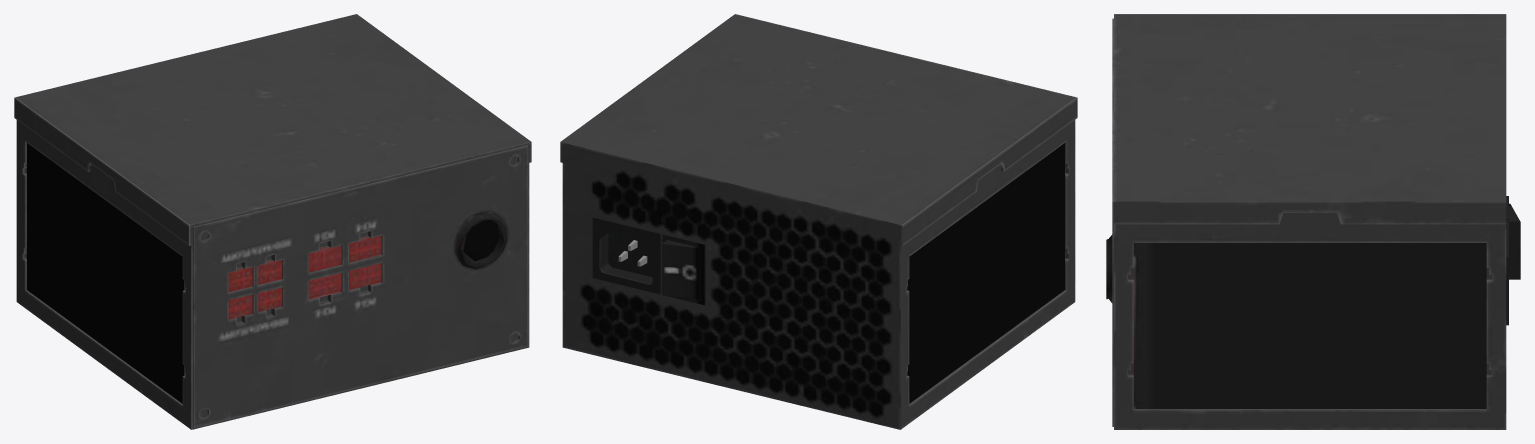
File: psu-corsair-rm750e_lod2.glb
The picture shows the model from 3 angles, left to right: view 1: azimuth 30°, elevation 25°; view 2: azimuth 150°, elevation 25°; view 3: azimuth 270°, elevation 25°; orthographic projection. The views are drawn at different scales.
Parts seen in each view (by area): view 1: body; view 2: body; view 3: body.
Part boxes in pixels (box(x1,y1,x2,y2)): body: box(14, 14, 531, 429); body: box(560, 14, 1077, 429); body: box(1106, 14, 1520, 429).
Bounding box in the file's own units: 0.15 × 0.086 × 0.14.
1 material, 1 textured.
